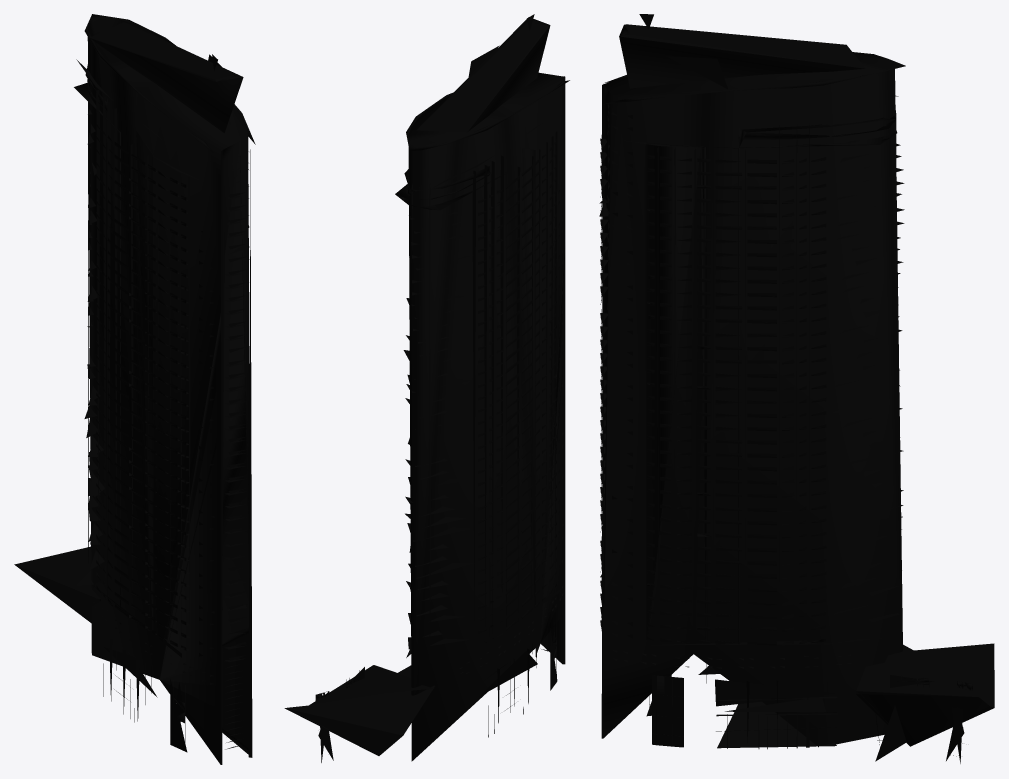
File: curved_res_tower_lod1.glb
The picture shows the model from 3 angles, left to right: view 1: azimuth 30°, elevation 25°; view 2: azimuth 150°, elevation 25°; view 3: azimuth 270°, elevation 25°; orthographic projection. The views are drawn at different scales.
Parts seen in each view (by area): view 1: curved_res_tower; view 2: curved_res_tower; view 3: curved_res_tower.
Boxes of the visible parts, x1=… form: curved_res_tower: x1=14, y1=14, x2=255, y2=764; curved_res_tower: x1=284, y1=14, x2=569, y2=762; curved_res_tower: x1=599, y1=14, x2=994, y2=763.
Bounding box in the file's own units: 39.31 × 200 × 99.86.
1 material, 1 textured.
